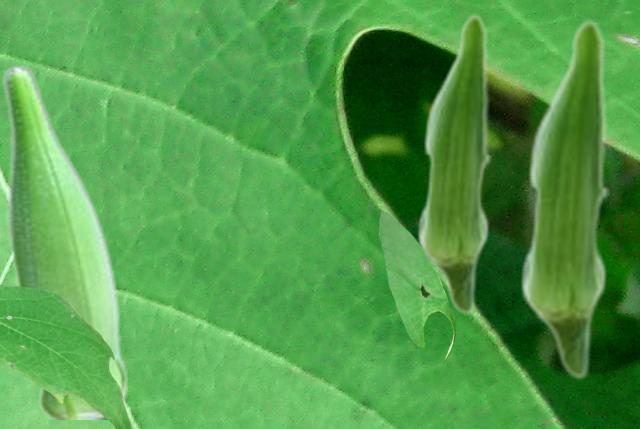okra: (0, 64, 126, 418), (519, 18, 608, 380), (416, 13, 490, 315)
